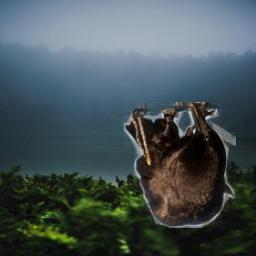Crow: (123, 102, 236, 228)
